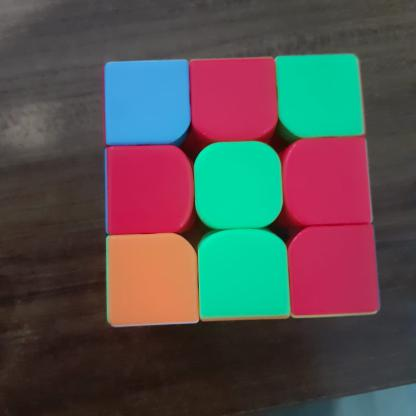cube: (98, 52, 383, 328)
